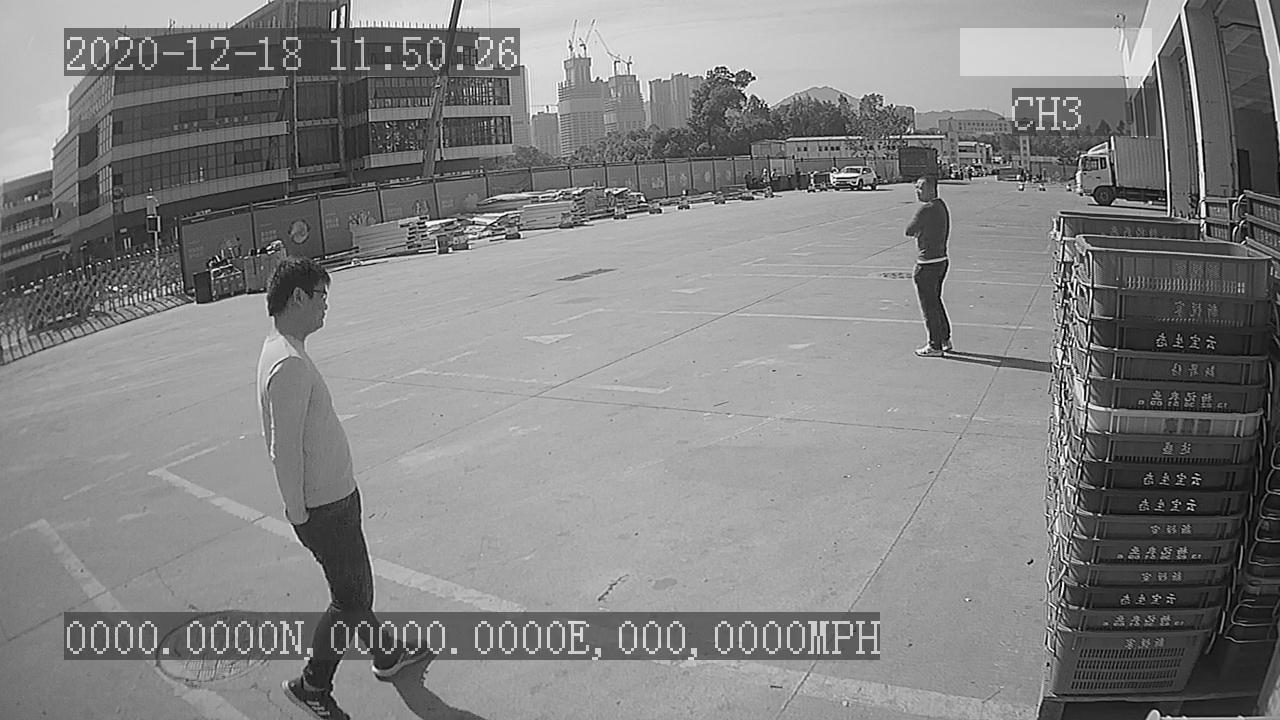person: (904, 172, 959, 365)
